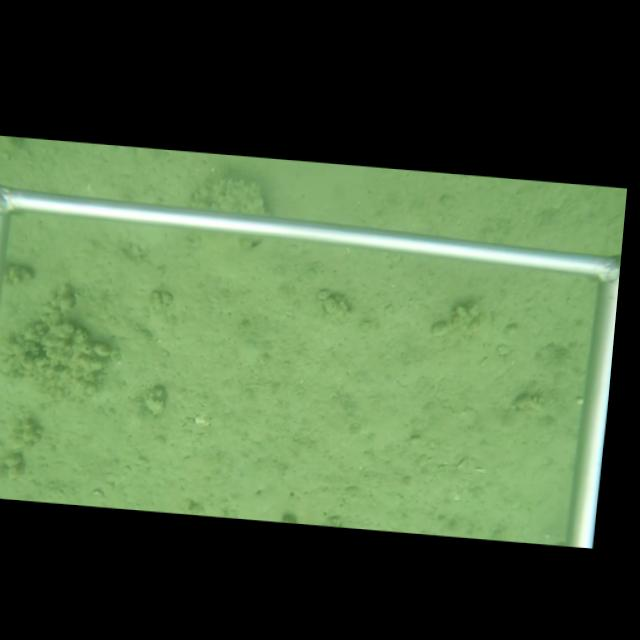Oyster-Indeterminate: (188, 175, 273, 215)
